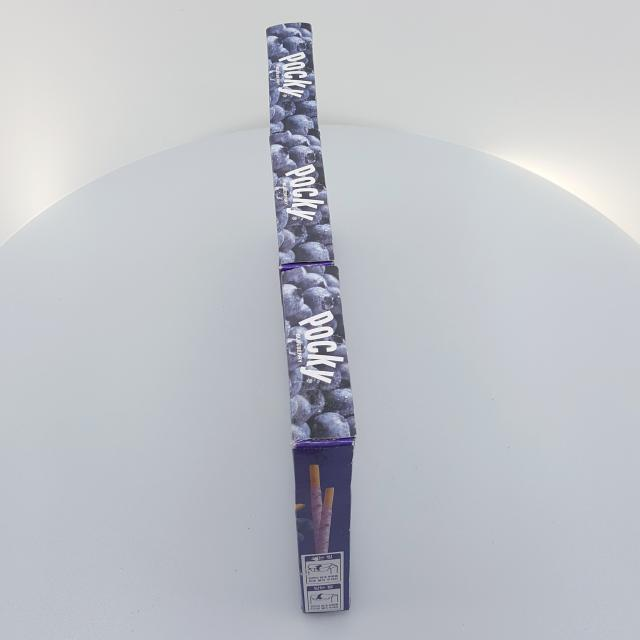-41G: (282, 267, 358, 615)
